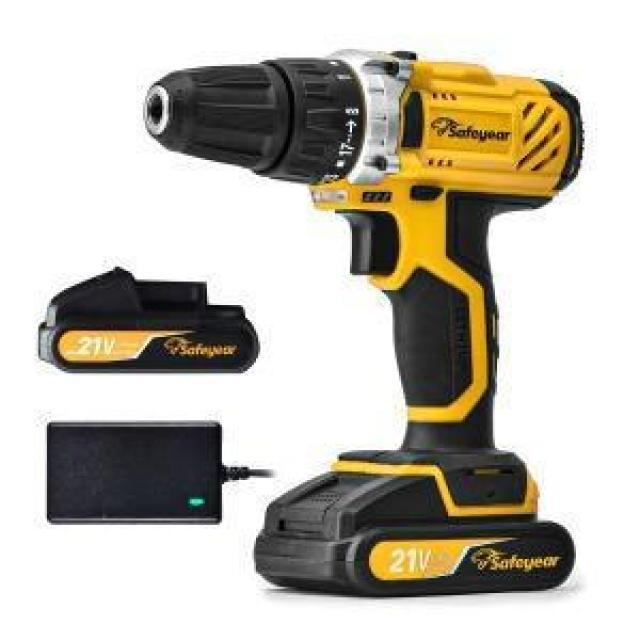drill: (142, 47, 586, 598)
